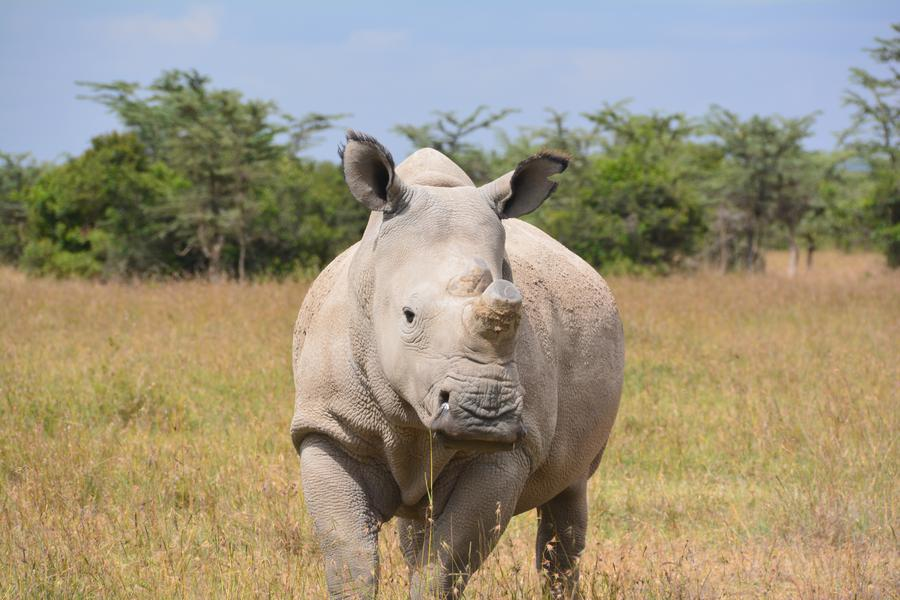rhino: (286, 117, 641, 576)
